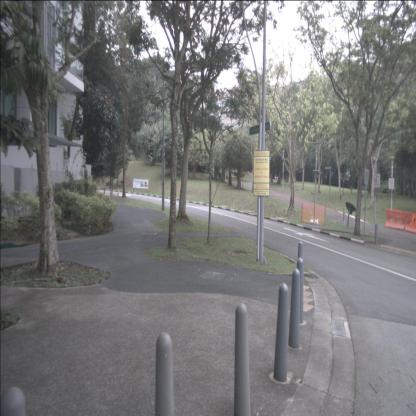barrier: (385, 208, 407, 231), (404, 210, 416, 234)
cone: (116, 186, 120, 197), (103, 186, 106, 194), (97, 186, 100, 193), (110, 186, 112, 195)
